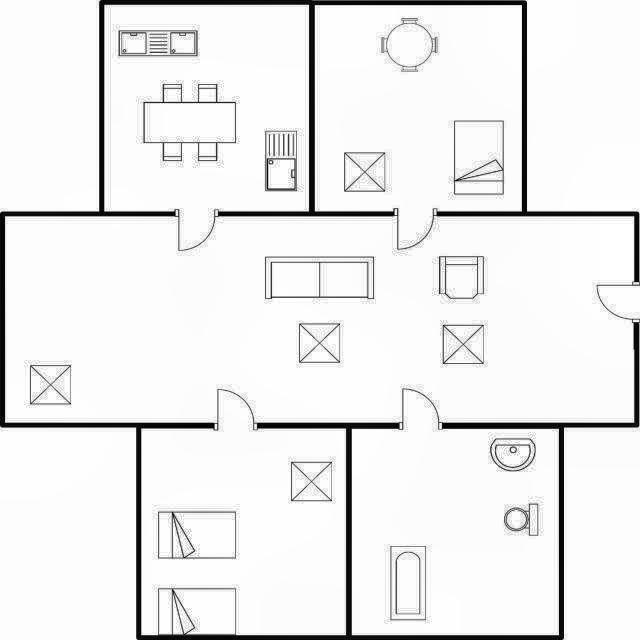room: (5, 216, 633, 422), (315, 6, 521, 211), (352, 430, 559, 634), (142, 429, 345, 635), (105, 5, 308, 210)
